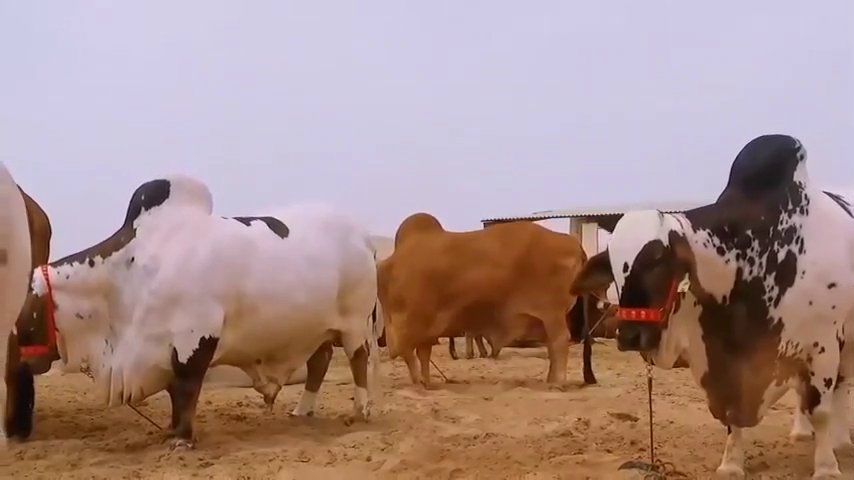bo: (14, 165, 390, 454), (564, 131, 854, 471), (363, 210, 602, 396)
